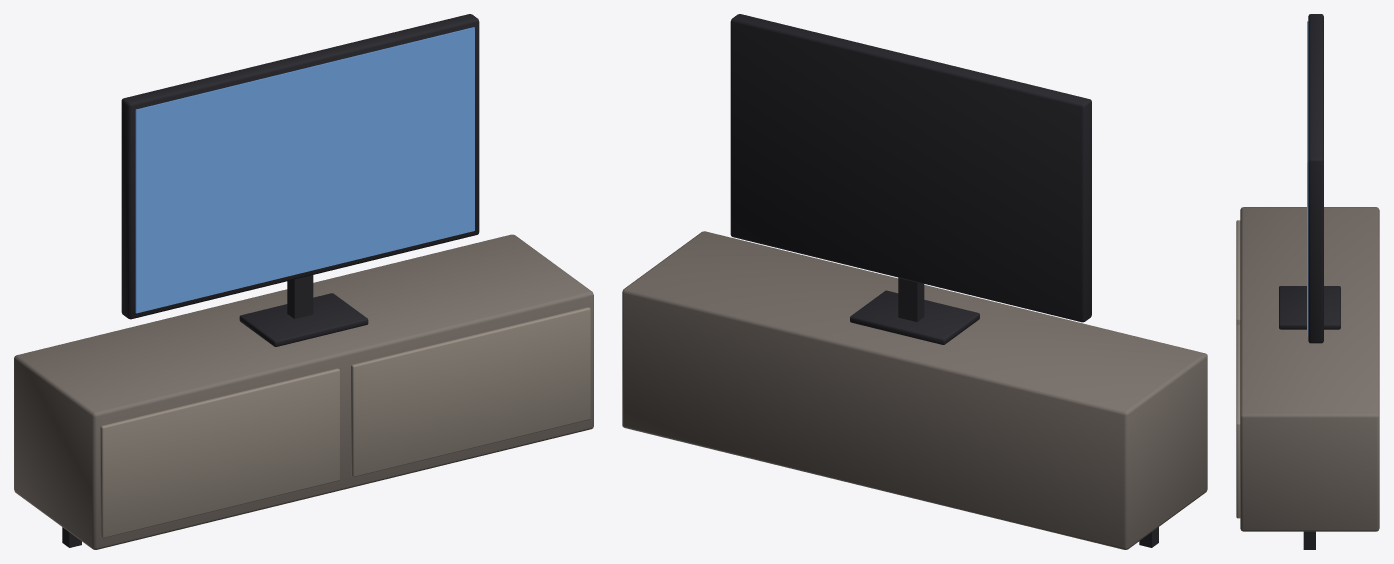
Rendered from tvunit.glb.
3 renders of one model, left to right at view 1: azimuth 30°, elevation 25°; view 2: azimuth 150°, elevation 25°; view 3: azimuth 270°, elevation 25°, orthographic. The views are drawn at different scales.
Visible parts, largest first — view 1: Cube.008, Cube, Cube.003, Cube.004, Cube.007, Cube.005, Cube.006; view 2: Cube, Cube.007, Cube.005, Cube.006; view 3: Cube, Cube.007, Cube.005, Cube.004, Cube.008, Cube.003, Cube.002.
Part boxes in pixels (left/top/right/bottom): Cube.008: left=135, top=27, right=474, bottom=313; Cube: left=14, top=234, right=593, bottom=549; Cube.003: left=100, top=368, right=339, bottom=538; Cube.004: left=351, top=307, right=590, bottom=476; Cube.007: left=121, top=14, right=479, bottom=319; Cube.005: left=239, top=293, right=368, bottom=346; Cube.006: left=287, top=275, right=313, bottom=318; Cube: left=622, top=231, right=1207, bottom=549; Cube.007: left=730, top=14, right=1091, bottom=322; Cube.005: left=850, top=290, right=979, bottom=344; Cube.006: left=898, top=277, right=924, bottom=321; Cube: left=1240, top=207, right=1379, bottom=531; Cube.007: left=1308, top=14, right=1323, bottom=343; Cube.005: left=1279, top=286, right=1340, bottom=329; Cube.004: left=1236, top=324, right=1240, bottom=518; Cube.008: left=1307, top=21, right=1308, bottom=336; Cube.003: left=1236, top=220, right=1240, bottom=325; Cube.002: left=1303, top=531, right=1315, bottom=549.
Size of the model in its own units: 1.6 by 1.3 by 0.4625.
